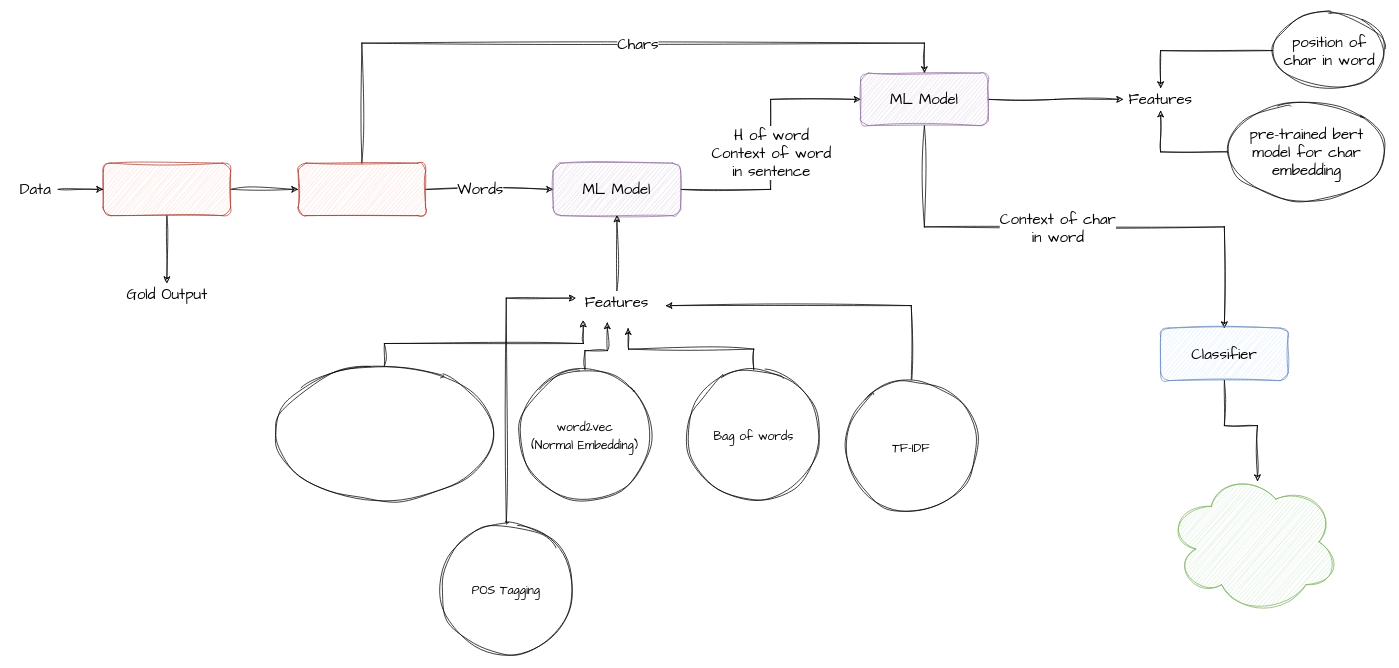
Image size: 1399x668. Some labels were removed from this diagram. The shapes that lost their labels are listed below. From the top down, each one's centre as x and y in pixels, then its label:
At point (166, 189): "Pre-processing".
At point (361, 189): "Tokenization".
At point (384, 433): "Pre-trained Bert Transformer to get semantic features (Contextual Embedding)".
At point (1254, 541): "Output".
